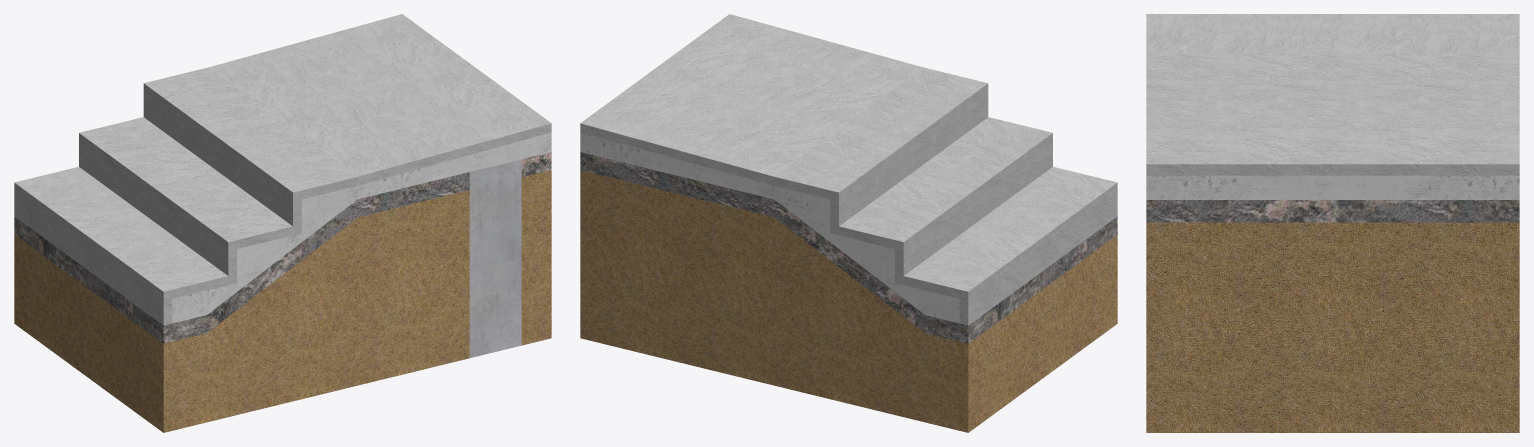
The model's file is concrete-steps.glb.
3 views of the same model, side by side, from view 1: azimuth 30°, elevation 25°; view 2: azimuth 150°, elevation 25°; view 3: azimuth 270°, elevation 25° (orthographic). The views are drawn at different scales.
Visible parts, largest first — view 1: 面层, 素土夯实, 墙柱, 80mm 厚碎石, C15 混凝土; view 2: 面层, 素土夯实, 80mm 厚碎石, C15 混凝土; view 3: 素土夯实, 面层, C15 混凝土, 80mm 厚碎石.
Boxes of the visible parts, x1,y1,x2,y2 form: 面层: (14, 14, 551, 325); 素土夯实: (14, 170, 551, 432); 墙柱: (469, 159, 521, 357); 80mm 厚碎石: (14, 152, 551, 343); C15 混凝土: (172, 132, 551, 323); 面层: (580, 14, 1117, 325); 素土夯实: (580, 170, 1117, 432); 80mm 厚碎石: (580, 152, 1117, 343); C15 混凝土: (580, 132, 959, 323); 素土夯实: (1146, 222, 1519, 432); 面层: (1146, 14, 1519, 175); C15 混凝土: (1146, 175, 1519, 199); 80mm 厚碎石: (1146, 200, 1519, 222).
Bounding box in the file's own units: 1.8 × 0.9524 × 1.2.
Materials: 5 (5 with a texture image).
